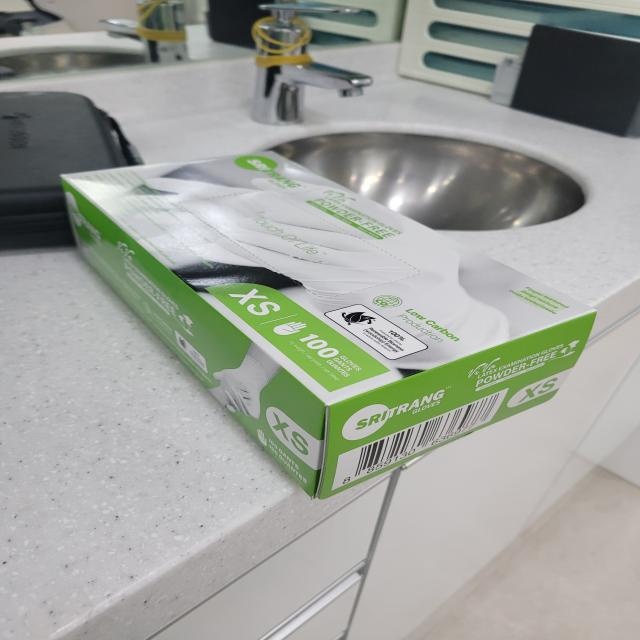glove: (43, 141, 614, 511)
